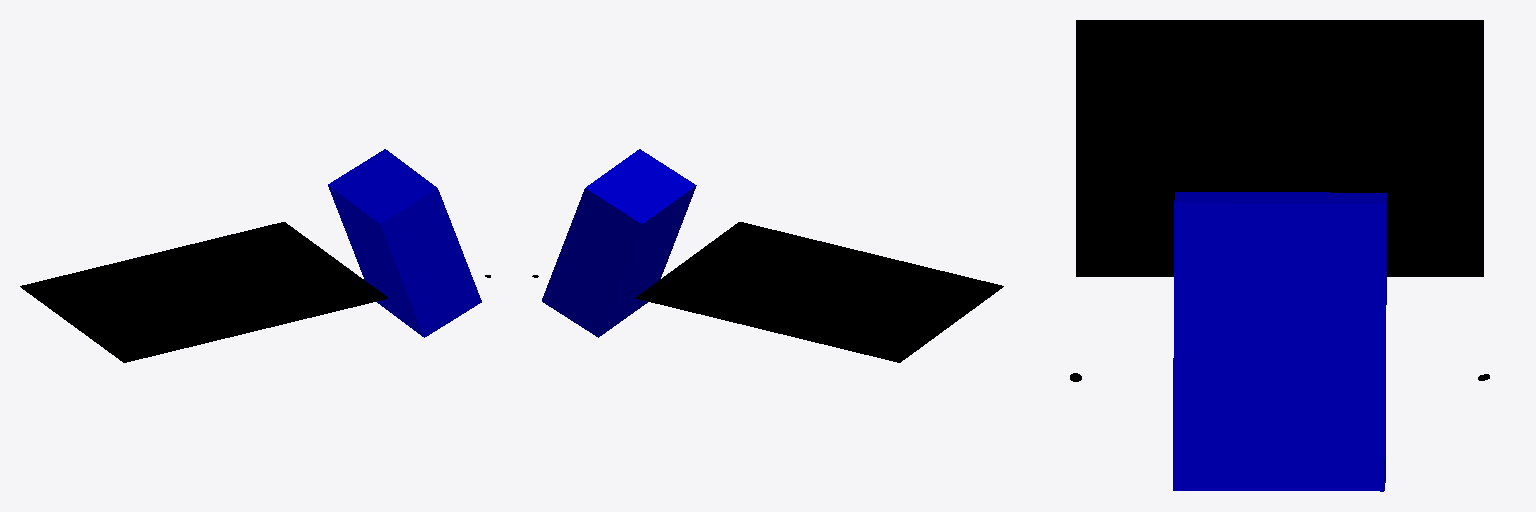
The robot description file, URDF, robot "garry":
<?xml version="1.0"?>
<robot name="garry">
	<!-- materials  -->
	<material name="black">
		<color rgba="0 0 0 0"/>
	</material>

	<material name="blue">
		<color rgba="0 0 0.8 1"/>
	</material>

	<!-- links -->
	<link name="base_link">
		<visual>
			<geometry>
	      			<box size="250.0 170.0 1.25"/>
			</geometry>
			<material name="black"/>
		</visual>
		<collision>
			<geometry>
				<box siz="250.0 170. 1.25"/>
			</geometry>
		</collision>
  	</link>
	
	<link name="boards_link">
		<visual>
			<geometry>
				<box size="88.0 58.0 120.0"/>
			</geometry>
			<origin rpy="170.0 0 61.25"/>
			<material name="blue"/>
		</visual>
		<collision>
			<geometry>
				<box size="88.0 58.0 120.0"/>
			</geometry>
		</collision>
	</link>
	
	<joint name="base_to_board" type="fixed">
		<parent link="base_link"/>
		<child link="boards_link"/>
		<origin xyz="190.0 0.0 0.0"/>
	</joint>

	<link name="right_wheel">
		<visual>
			<origin rpy="220.0 85.0 -2.5125"/>
			<geometry>
				<cylinder length="1.0" radius="2.5125"/>
			</geometry>
			<material name="black"/>
		</visual>
		<collision>
			<geometry>
				<cylinder length="1.0" radius="2.5125"/>
			</geometry>
		</collision>
	</link>

	<joint name="base_to_right_wheel" type="fixed">
		<parent link="base_link"/>
		<child link="right_wheel"/>
		<origin xyz="220.0 85.0 -2.5125"/>
	</joint>	

	<link name="left_wheel">
		<visual>
			<origin rpy="220.0 -85.0 -2.5125"/>
			<geometry>
				<cylinder length="1.0" radius="-2.5125"/>
			</geometry>
			<material name="black"/>
		</visual>
		<collision>
			<geometry>
				<cylinder length="1.0" radius="2.5125"/>
			</geometry>
		</collision>
	</link>

	<joint name="base_to_left_wheel" type="fixed">
		<parent link="base_link"/>
		<child link="left_wheel"/>
		<origin xyz="220.0 -85.0 -2.5125"/>
	</joint>
</robot>

--- Render facts (derived) ---
3 views of the same robot in one strip: view 1: azimuth 30°, elevation 25°; view 2: azimuth 150°, elevation 25°; view 3: azimuth 270°, elevation 25° (orthographic).
Model garry with 4 links and 3 joints (3 fixed), rooted at base_link, posed all joints at 0.
Visible links, largest first — view 1: base_link, boards_link; view 2: base_link, boards_link; view 3: base_link, boards_link.
Link boxes in pixels (x1,y1,x2,y2): base_link: [20, 222, 387, 362]; boards_link: [328, 149, 481, 337]; base_link: [636, 222, 1003, 362]; boards_link: [542, 149, 696, 337]; base_link: [1076, 20, 1483, 276]; boards_link: [1173, 192, 1386, 491].
Size in the robot's own frame: 363 by 175 by 133 metres.
Geometry: primitives only (box / cylinder / sphere), no mesh files.
